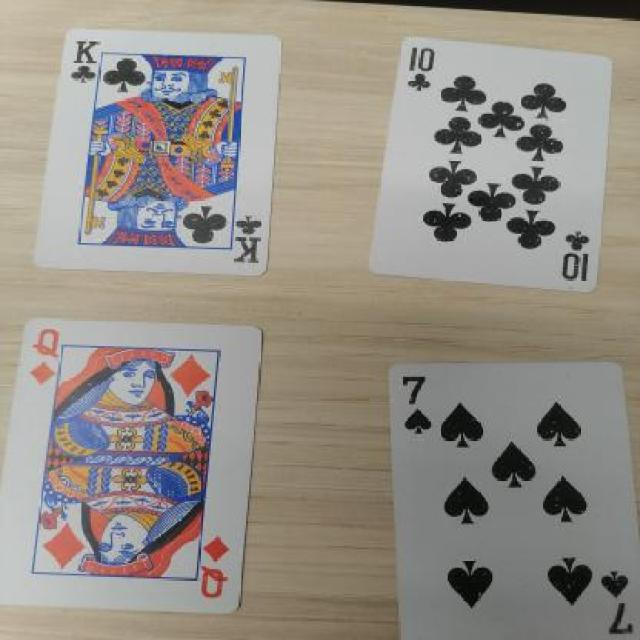10C: (393, 36, 452, 101)
7S: (384, 369, 451, 445)
KC: (66, 29, 114, 96)
QD: (13, 330, 78, 388)
